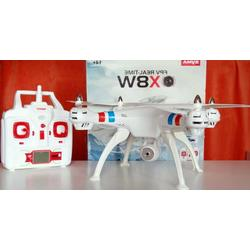drone: (64, 93, 248, 184)
